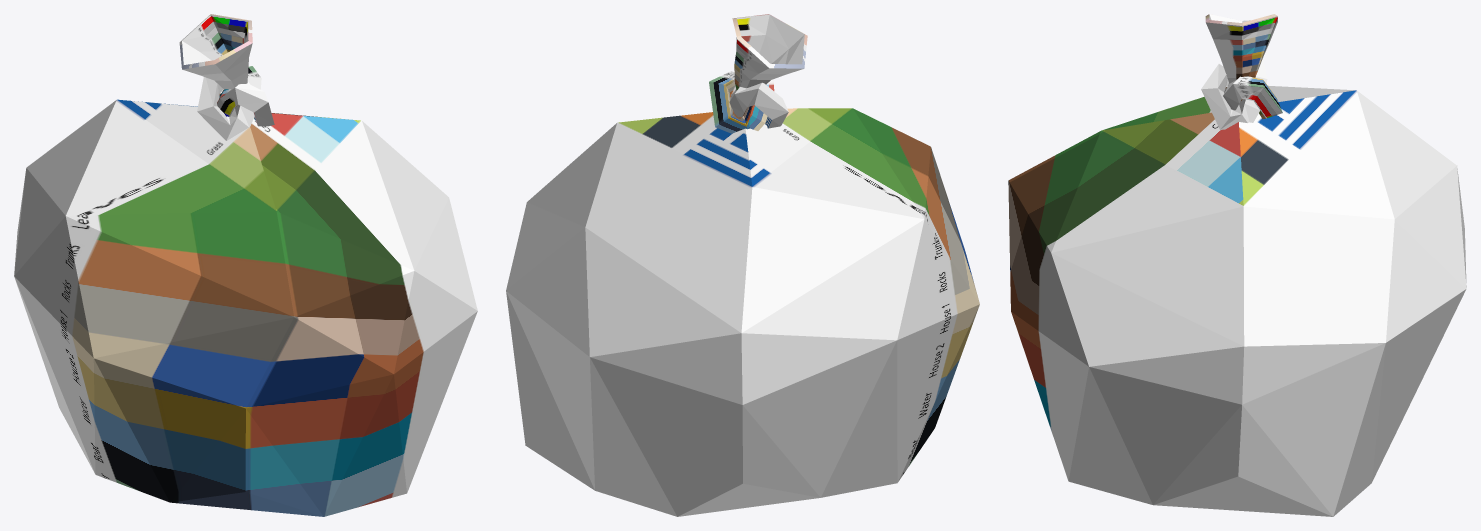
Rendered from trashbag_04.fbx.
3 views of the same model, side by side, from view 1: azimuth 30°, elevation 25°; view 2: azimuth 150°, elevation 25°; view 3: azimuth 270°, elevation 25° (orthographic). The views are drawn at different scales.
Parts seen in each view (by area): view 1: trashbag_01, trashbag_01_knot; view 2: trashbag_01, trashbag_01_knot; view 3: trashbag_01, trashbag_01_knot.
Boxes of the visible parts, left/top/right/bottom form: trashbag_01: left=14, top=99, right=477, bottom=516; trashbag_01_knot: left=179, top=14, right=274, bottom=140; trashbag_01: left=506, top=108, right=979, bottom=516; trashbag_01_knot: left=709, top=14, right=807, bottom=133; trashbag_01: left=1008, top=85, right=1466, bottom=516; trashbag_01_knot: left=1201, top=14, right=1282, bottom=129.
Bounding box in the file's own units: 96.51 × 100 × 96.47.
1 material, 1 textured.
